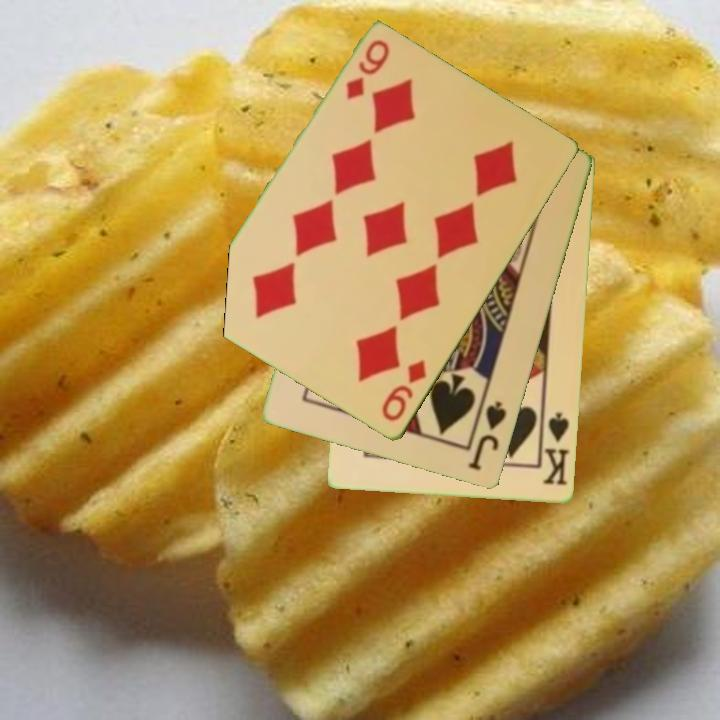9d: (378, 356, 430, 425), (342, 36, 393, 103)
Js: (465, 398, 510, 474)
Ks: (537, 409, 572, 488)
